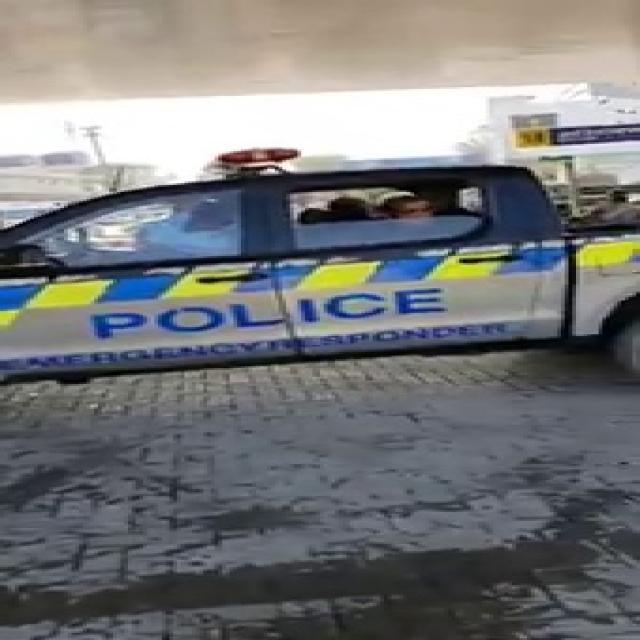police: (7, 165, 640, 405)
